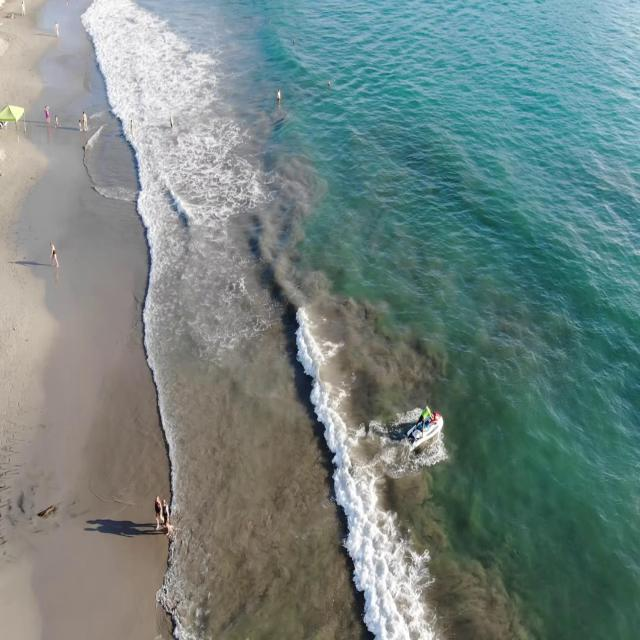boat: (404, 399, 444, 454)
